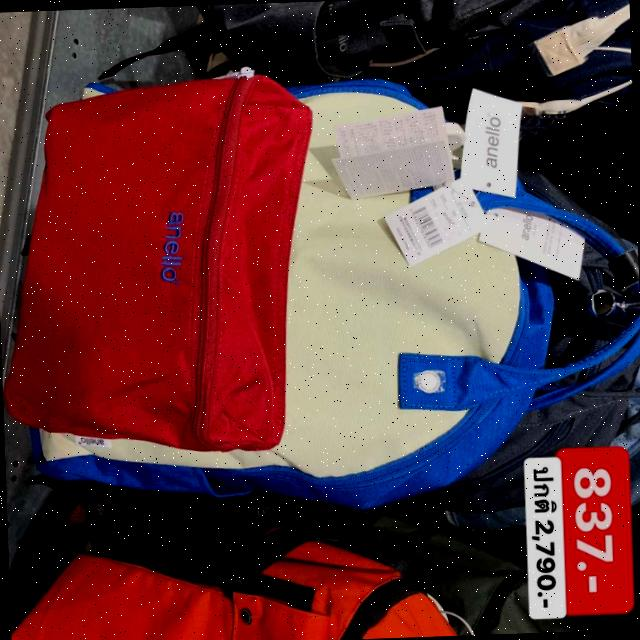Handbag: (0, 29, 640, 545)
